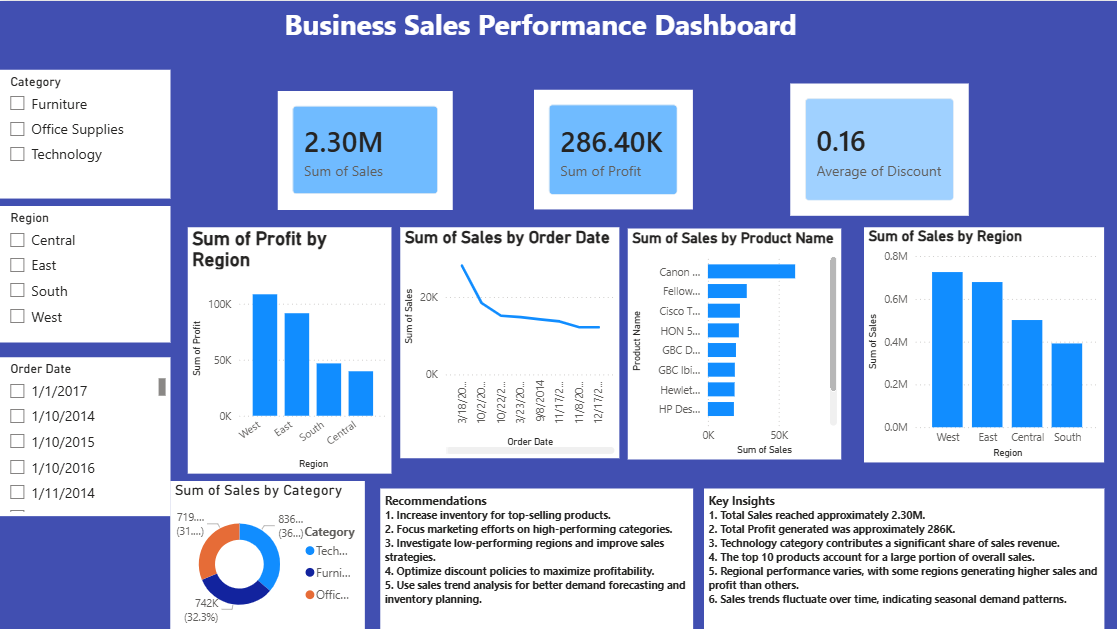

This screenshot's page, from the dashboard's own definition file:
{"tool":"powerbi","page":{"name":"Page 1","canvas":[1280,720],"ordinal":0},"visuals":[{"type":"cardVisual","fields":{"Data":["Sum(Sample - Superstore (3).Sales)"]},"box":[0,23.8,300,300],"z":2},{"type":"cardVisual","fields":{"Data":["Sum(Sample - Superstore (3).Profit)"]},"box":[288.3,0,300,300],"z":3},{"type":"cardVisual","fields":{"Data":["Avg(Sample - Superstore (3).Discount)"]},"box":[615.7,0,300,300],"z":4},{"type":"lineChart","fields":{"Category":["Sample - Superstore (3).Order Date"],"Y":["Sum(Sample - Superstore (3).Sales)"]},"box":[0,271.2,300,300],"z":5},{"type":"donutChart","fields":{"Category":["Sample - Superstore (3).Category"],"Y":["Sum(Sample - Superstore (3).Sales)"]},"box":[941.2,300,300,257.5],"z":6},{"type":"clusteredBarChart","fields":{"Category":["Sample - Superstore (3).Product Name"],"Y":["Sum(Sample - Superstore (3).Sales)"]},"box":[636.2,257.5,290,300],"z":7},{"type":"columnChart","fields":{"Category":["Sample - Superstore (3).Region"],"Y":["Sum(Sample - Superstore (3).Sales)"]},"box":[926,0,300,300],"z":8},{"type":"clusteredColumnChart","fields":{"Category":["Sample - Superstore (3).Region"],"Y":["Sum(Sample - Superstore (3).Profit)"]},"box":[320,257.5,300,300],"z":9},{"type":"textbox","box":[803.8,571.2,476.2,148.8],"z":10},{"type":"textbox","box":[320,571.2,340,148.8],"z":11},{"type":"textbox","box":[0,0,572.5,77.5],"z":12}]}

Visuals, with their boxes in screenshot pixels (x1, y1, x2, y2), scaled from the page's 1280x720 canvas onto the 1117x629 screenshot:
cardVisual - Sum(Sample - Superstore (3).Sales): [x1=0, y1=21, x2=262, y2=283]
cardVisual - Sum(Sample - Superstore (3).Profit): [x1=252, y1=0, x2=513, y2=262]
cardVisual - Avg(Sample - Superstore (3).Discount): [x1=537, y1=0, x2=799, y2=262]
lineChart - Sample - Superstore (3).Order Date x Sum(Sample - Superstore (3).Sales): [x1=0, y1=237, x2=262, y2=499]
donutChart - Sample - Superstore (3).Category x Sum(Sample - Superstore (3).Sales): [x1=821, y1=262, x2=1083, y2=487]
clusteredBarChart - Sample - Superstore (3).Product Name x Sum(Sample - Superstore (3).Sales): [x1=555, y1=225, x2=808, y2=487]
columnChart - Sample - Superstore (3).Region x Sum(Sample - Superstore (3).Sales): [x1=808, y1=0, x2=1070, y2=262]
clusteredColumnChart - Sample - Superstore (3).Region x Sum(Sample - Superstore (3).Profit): [x1=279, y1=225, x2=541, y2=487]
textbox: [x1=701, y1=499, x2=1116, y2=628]
textbox: [x1=279, y1=499, x2=576, y2=628]
textbox: [x1=0, y1=0, x2=500, y2=68]
